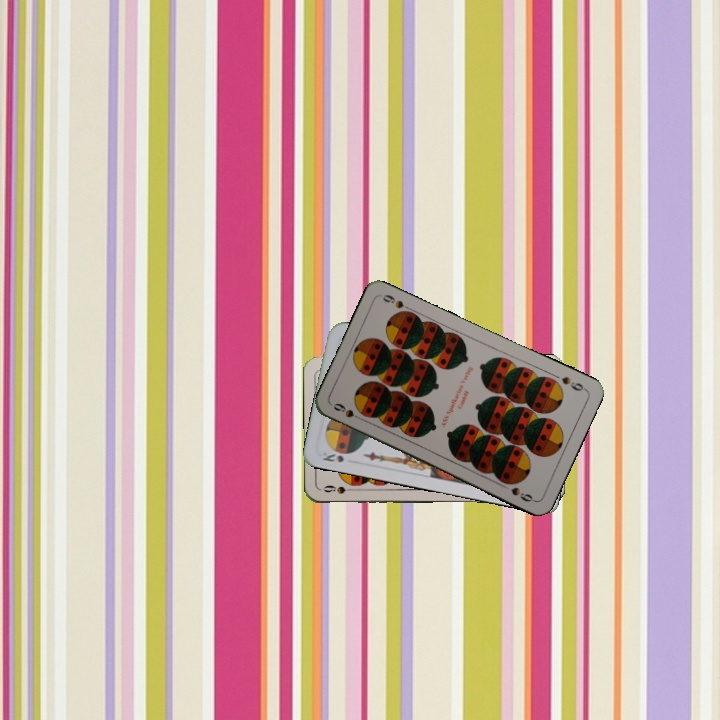S9: (329, 399, 367, 424), (558, 372, 588, 394), (319, 481, 360, 496)
SK: (319, 448, 347, 465)
